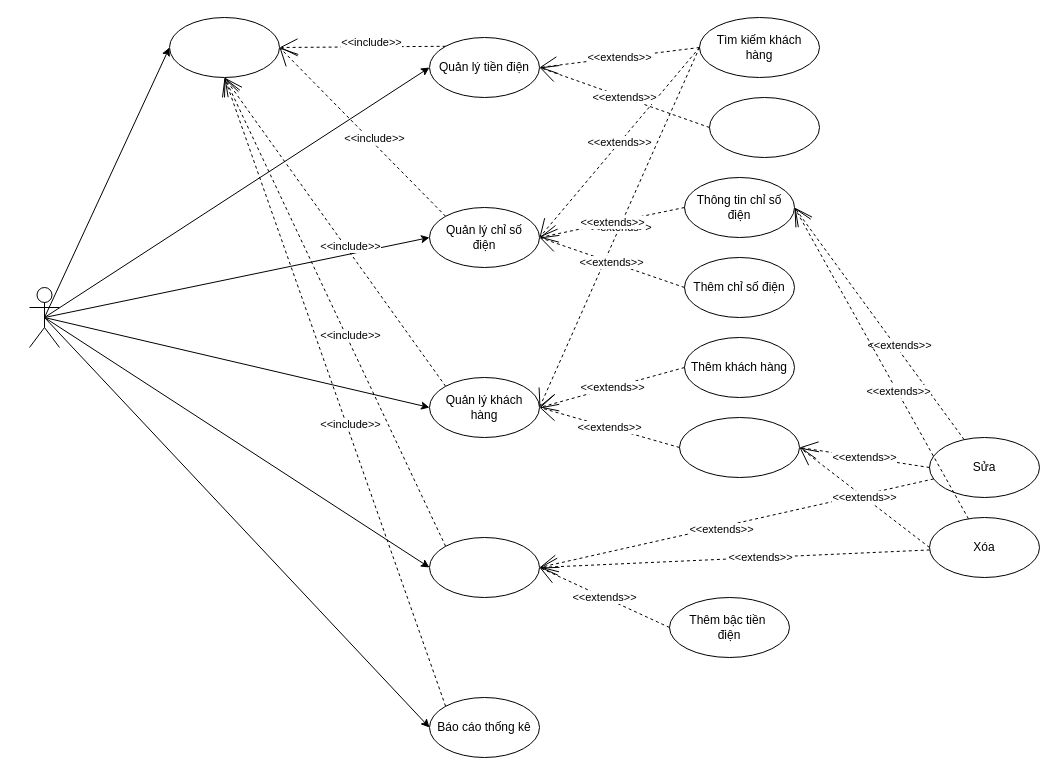
Image size: 1057x775. Some labels were removed from this diagram. Each missing label, with the centre of its shape:
"Nhân viên" belongs at pixel 44 317.
"Phiếu thu tiền điện" belongs at pixel 764 127.
"Quản lý bậc tiền điện" belongs at pixel 484 567.
"Thông tin khách hàng" belongs at pixel 739 447.
"Đăng nhập" belongs at pixel 224 47.
